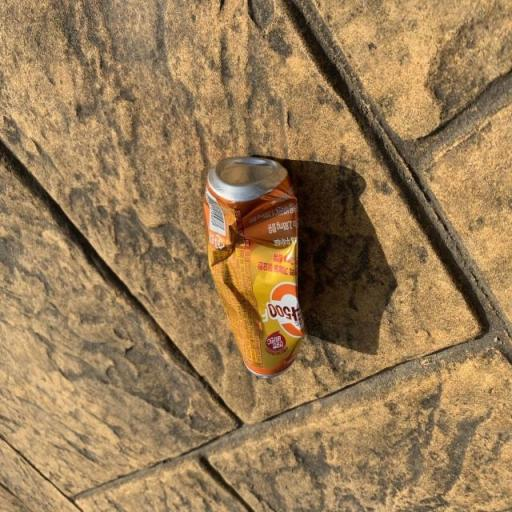metal: (190, 134, 314, 408)
